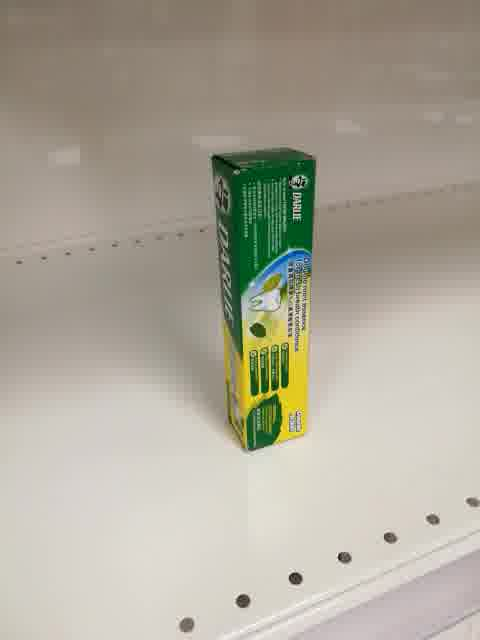toothpaste: (212, 148, 314, 454)
